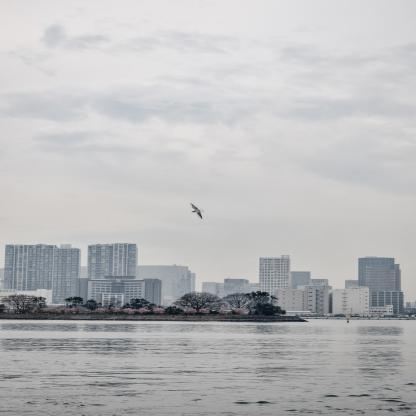bird: (191, 202, 202, 219)
